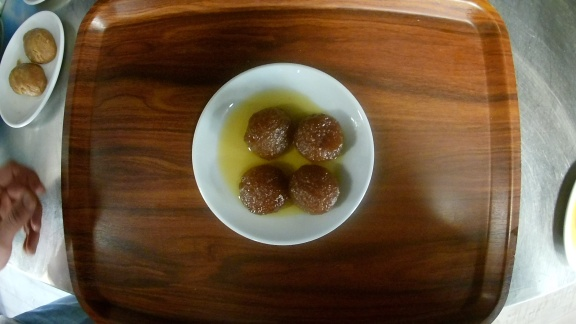kemalpasa: (191, 62, 377, 246)
